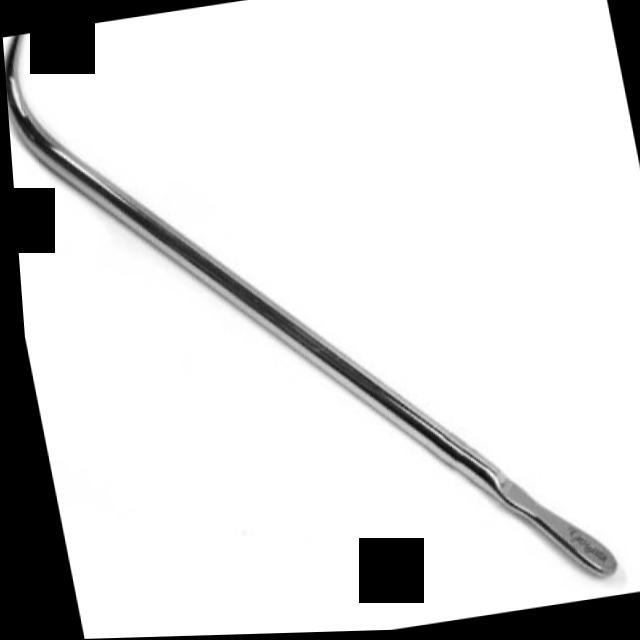Urethral Dilators: (0, 0, 632, 640)
